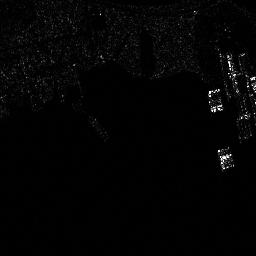ship: (208, 87, 223, 114)
